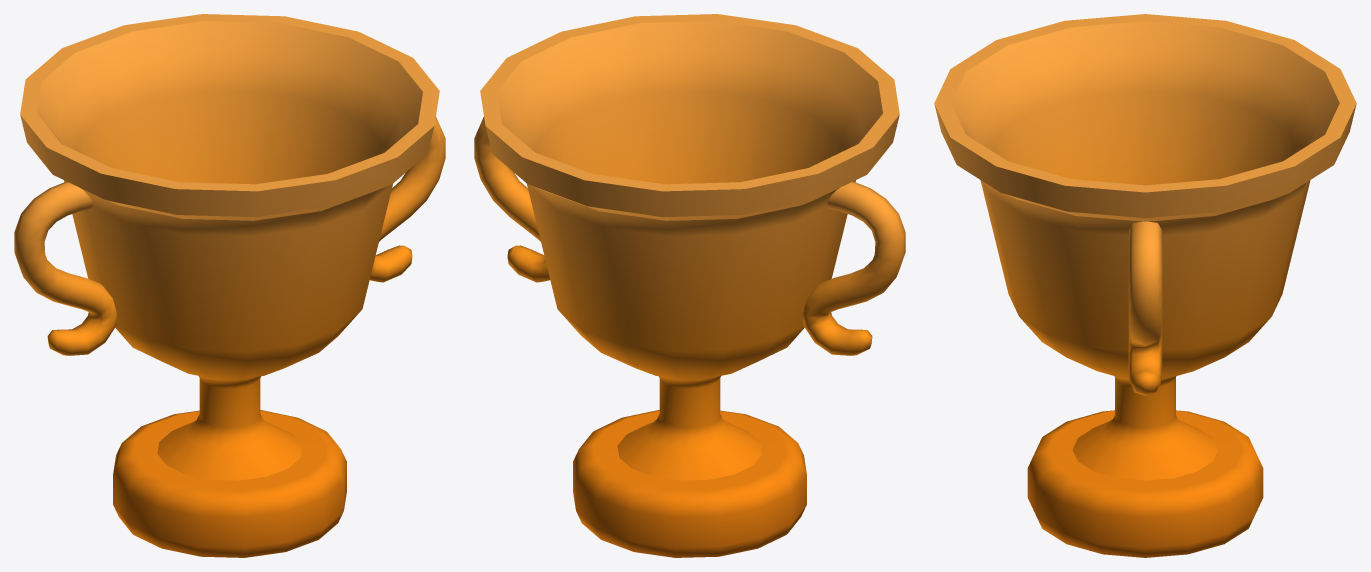
The model's file is cup_001.fbx.
3 renders of one model, left to right at view 1: azimuth 30°, elevation 25°; view 2: azimuth 150°, elevation 25°; view 3: azimuth 270°, elevation 25°, orthographic.
Parts seen in each view (by area): view 1: cup_001; view 2: cup_001; view 3: cup_001.
Boxes of the visible parts, bbox=[...] form: cup_001: bbox=[14, 14, 445, 557]; cup_001: bbox=[474, 14, 905, 557]; cup_001: bbox=[934, 14, 1356, 557].
Bounding box in the file's own units: 843 × 725 × 782.
